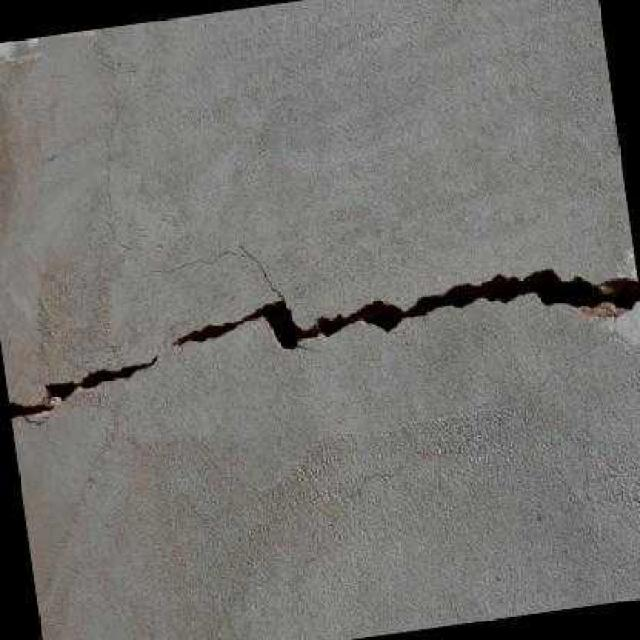D00: (172, 268, 640, 350), (8, 353, 157, 418)
